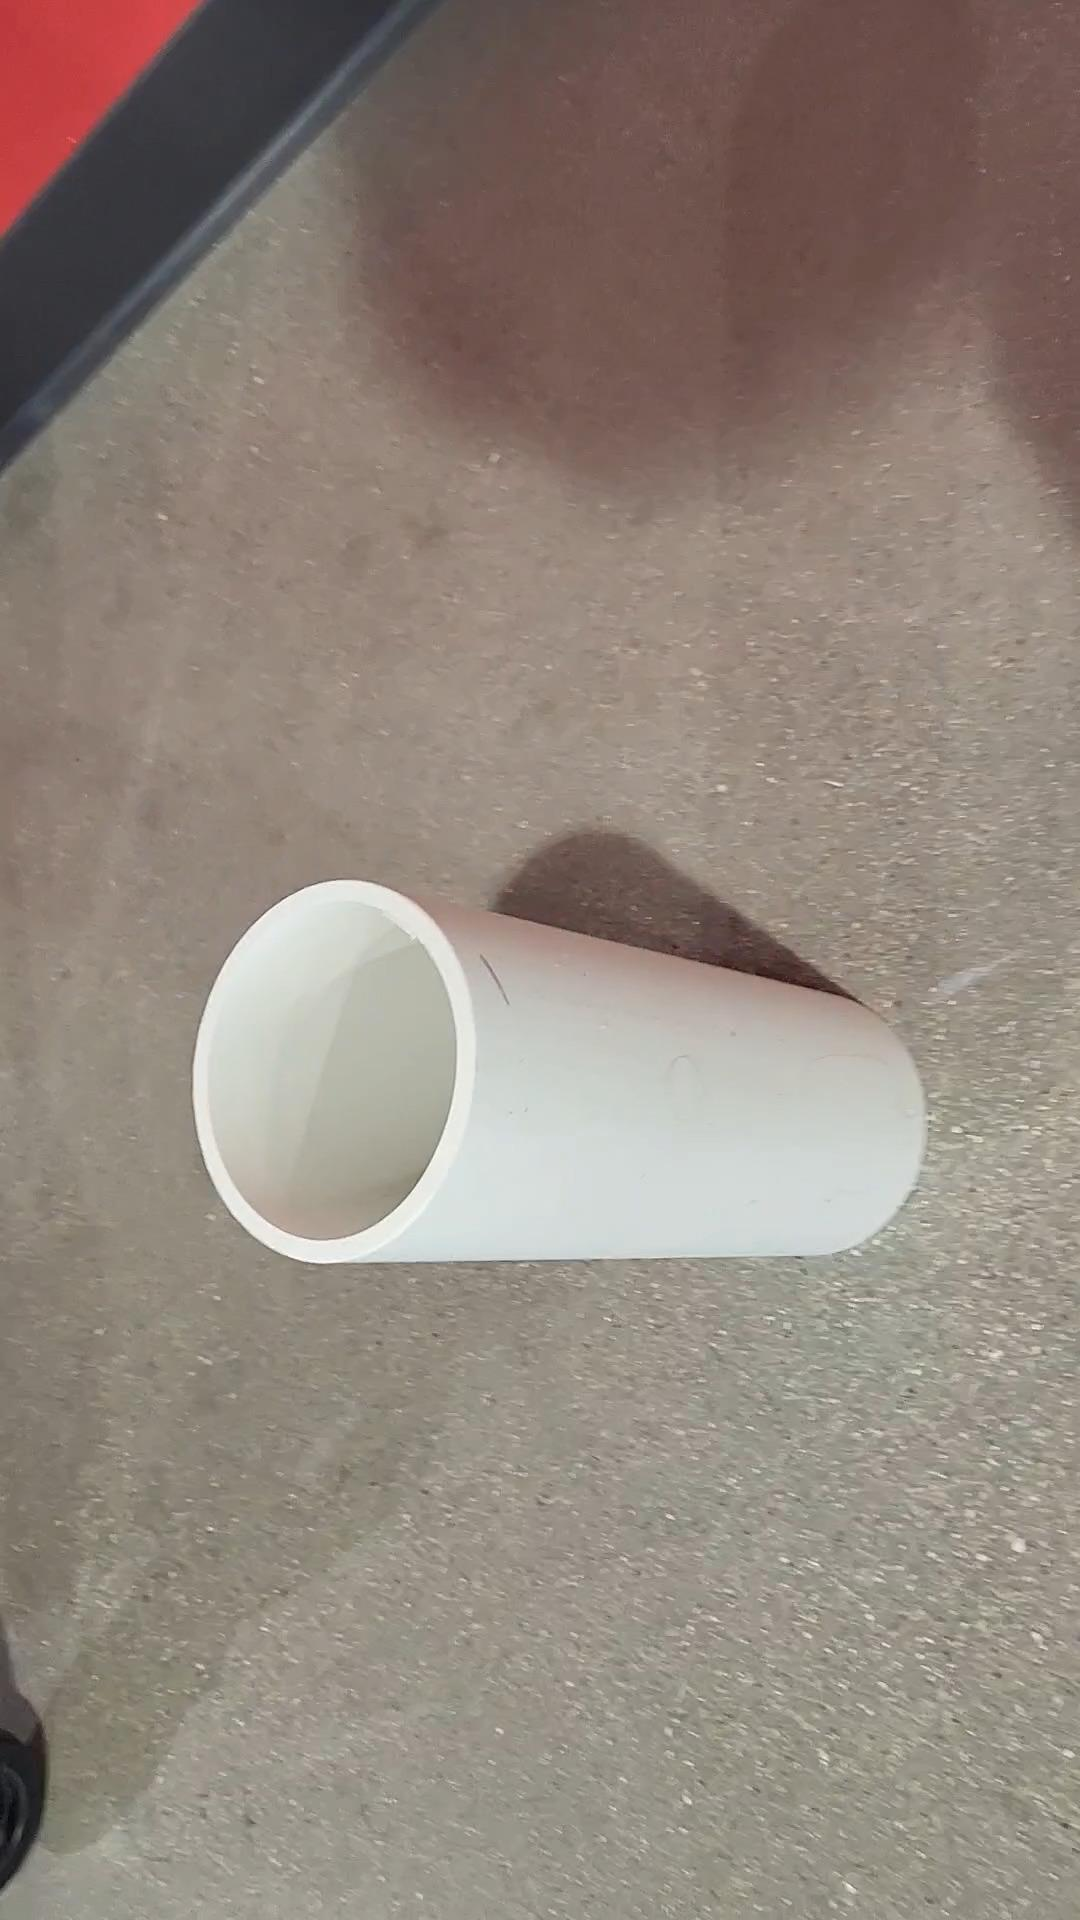coral: (194, 868, 927, 1263)
